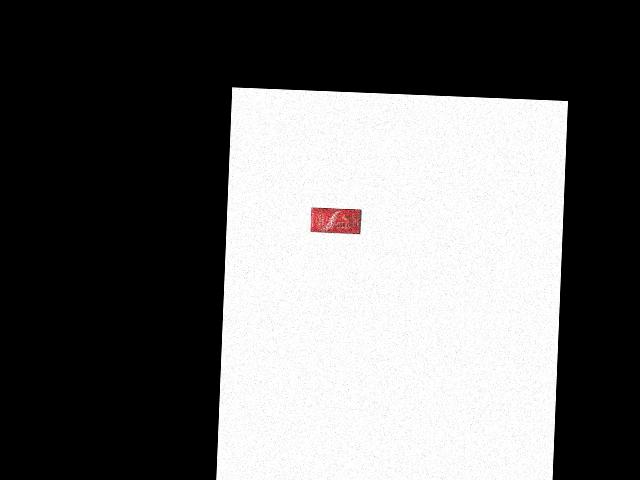chocolate: (309, 206, 365, 236)
